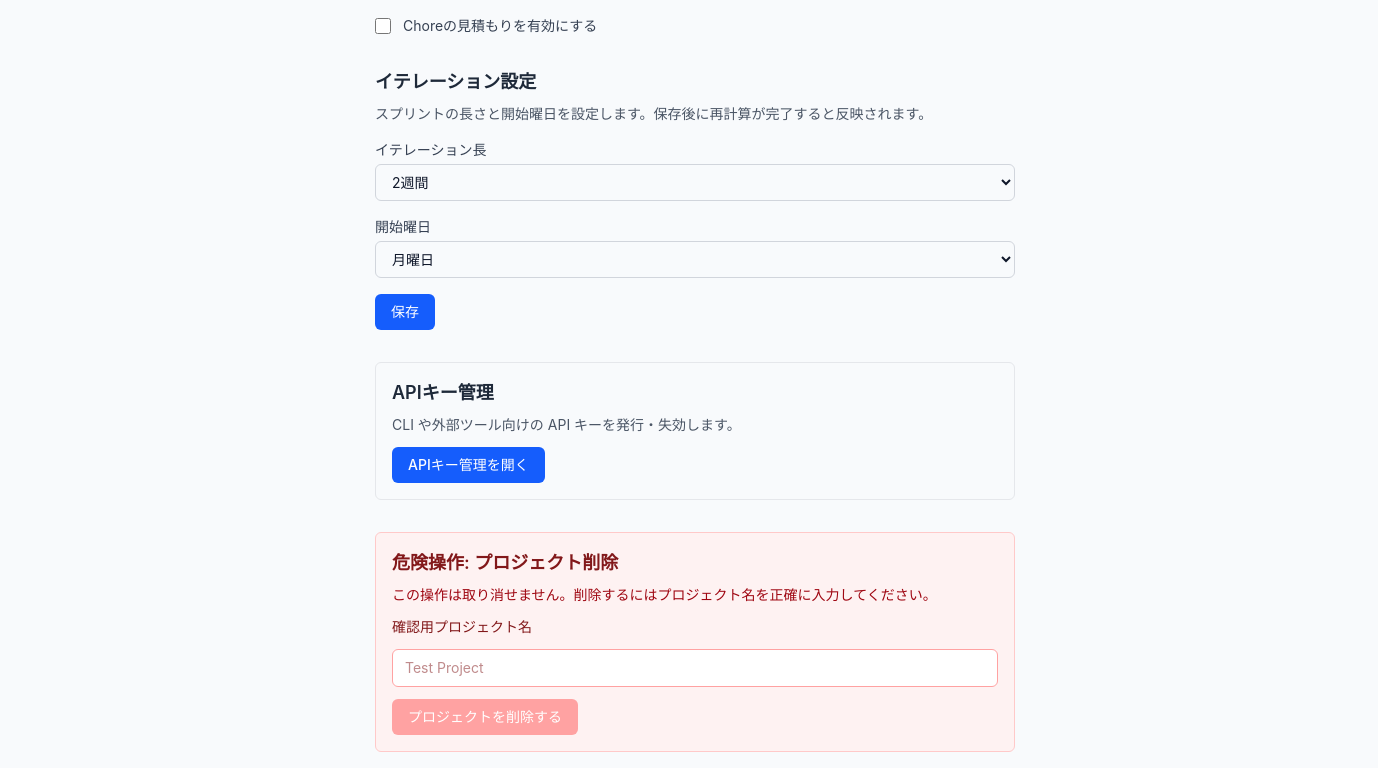
Test: ProjectSettingsScreen › submits delete request only when confirmation name matches
This screenshot has width=1378, height=768.
(page scrolled)
Expected: the button "プロジェクトを削除する" is disabled, x1=392 y1=699 x2=578 y2=735
Type "Wrong Name" into the field labelled "確認用プロジェクト名" at (695, 668), box x1=392 y1=649 x2=998 y2=687
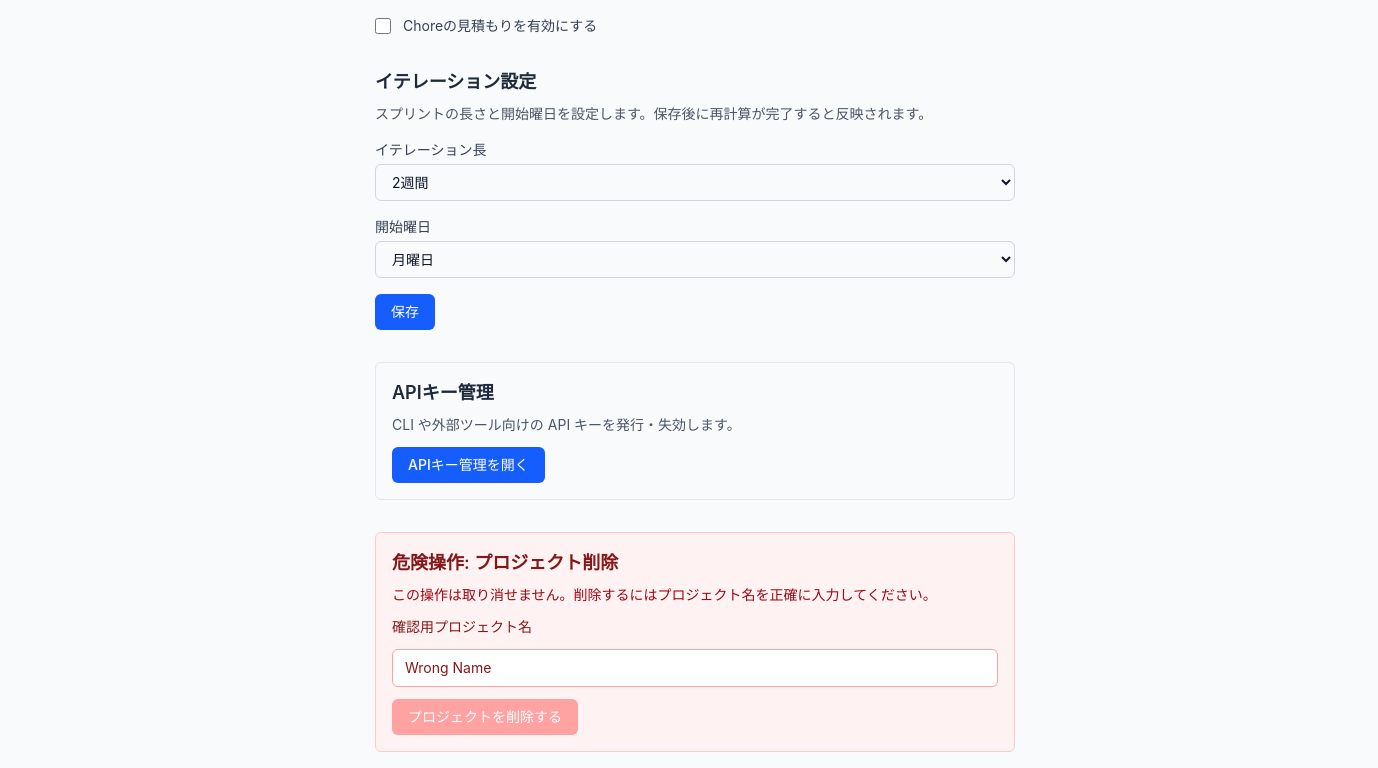
Expected: the button "プロジェクトを削除する" is disabled, x1=392 y1=699 x2=578 y2=735
Replace the text in the field labelled "確認用プロジェクト名" with "Test Project" at (695, 668), box x1=392 y1=649 x2=998 y2=687
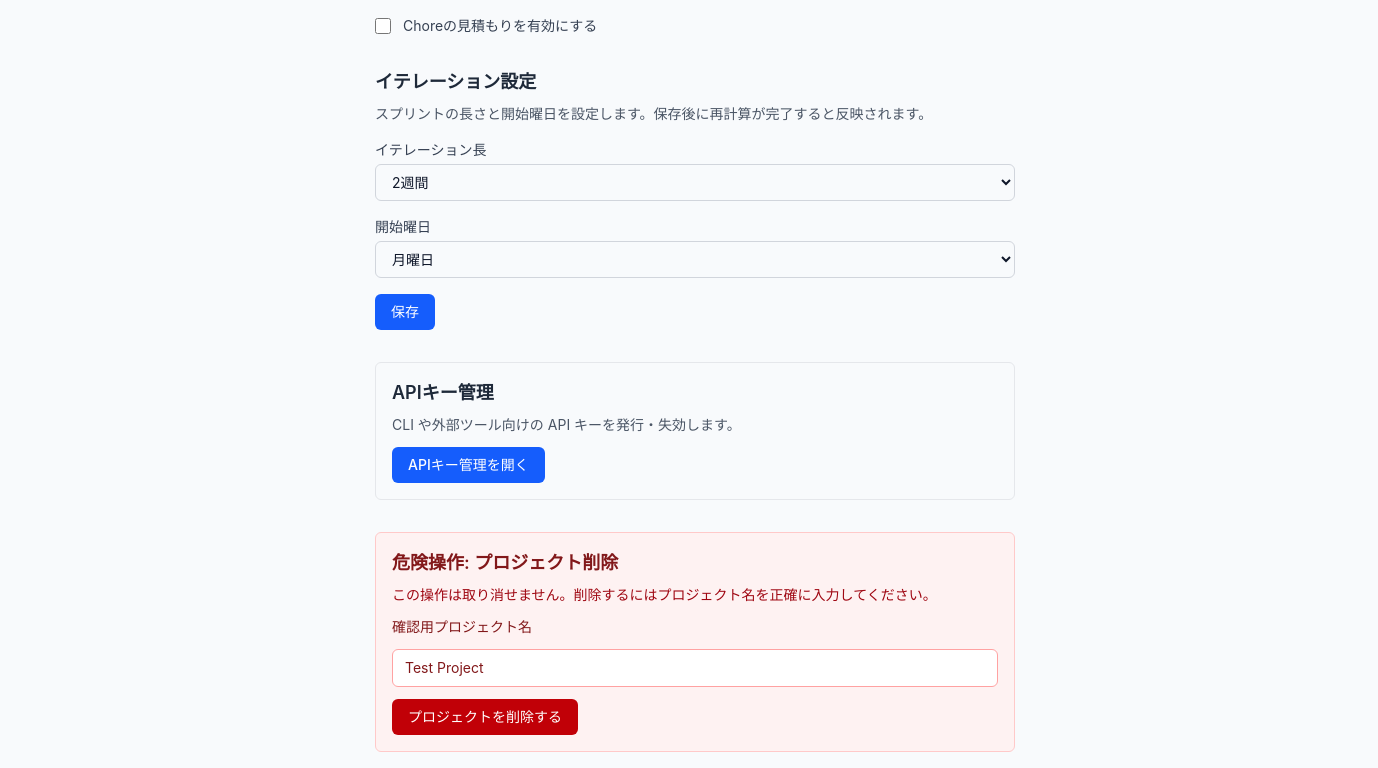
Expected: the button "プロジェクトを削除する" is enabled
Click the button "プロジェクトを削除する" at (485, 717), box x1=392 y1=699 x2=578 y2=735
(page scrolled)
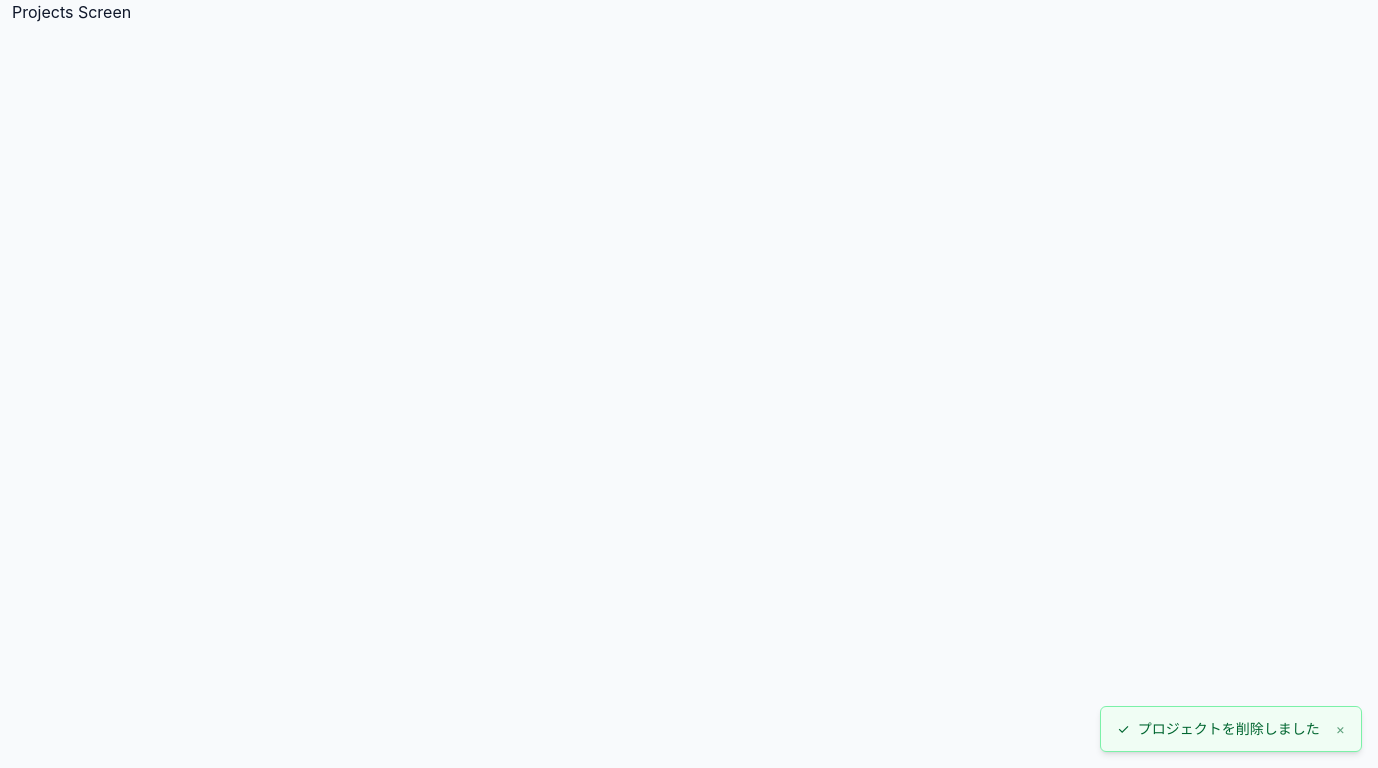
Expected: the text "Projects Screen" is shown, x1=12 y1=2 x2=131 y2=22
